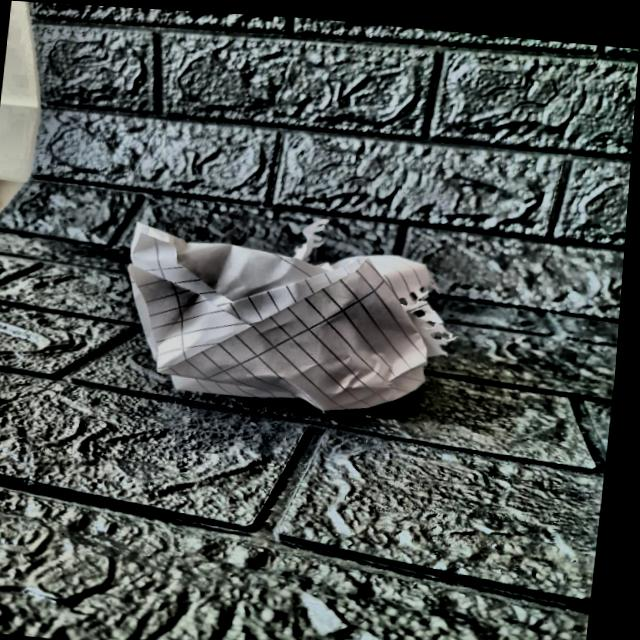Paper: (126, 228, 469, 416)
